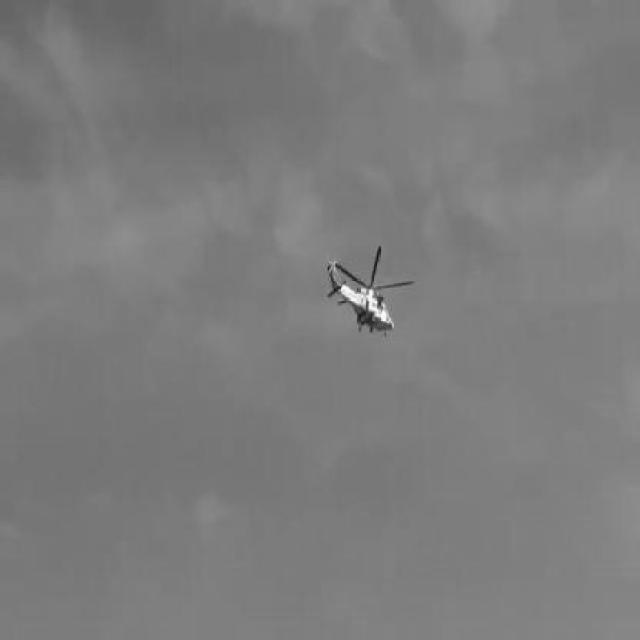helikopter: (326, 248, 416, 336)
